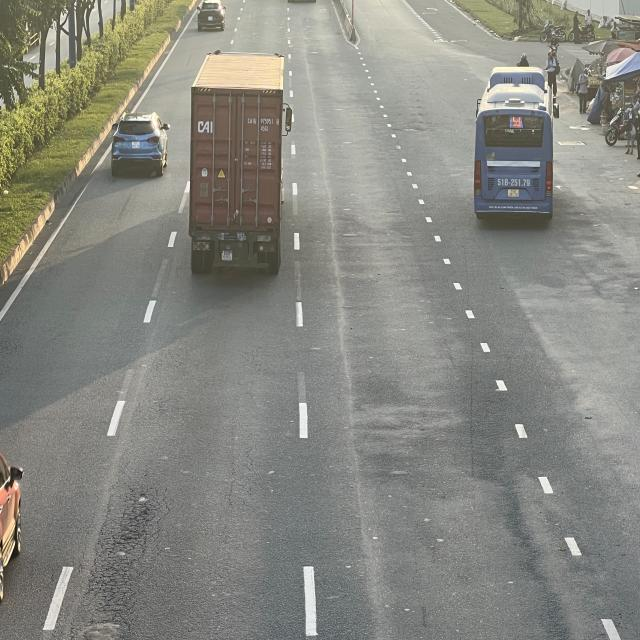car: (111, 114, 170, 178), (197, 0, 227, 31)
coach: (477, 68, 559, 222)
container: (191, 51, 296, 275)
